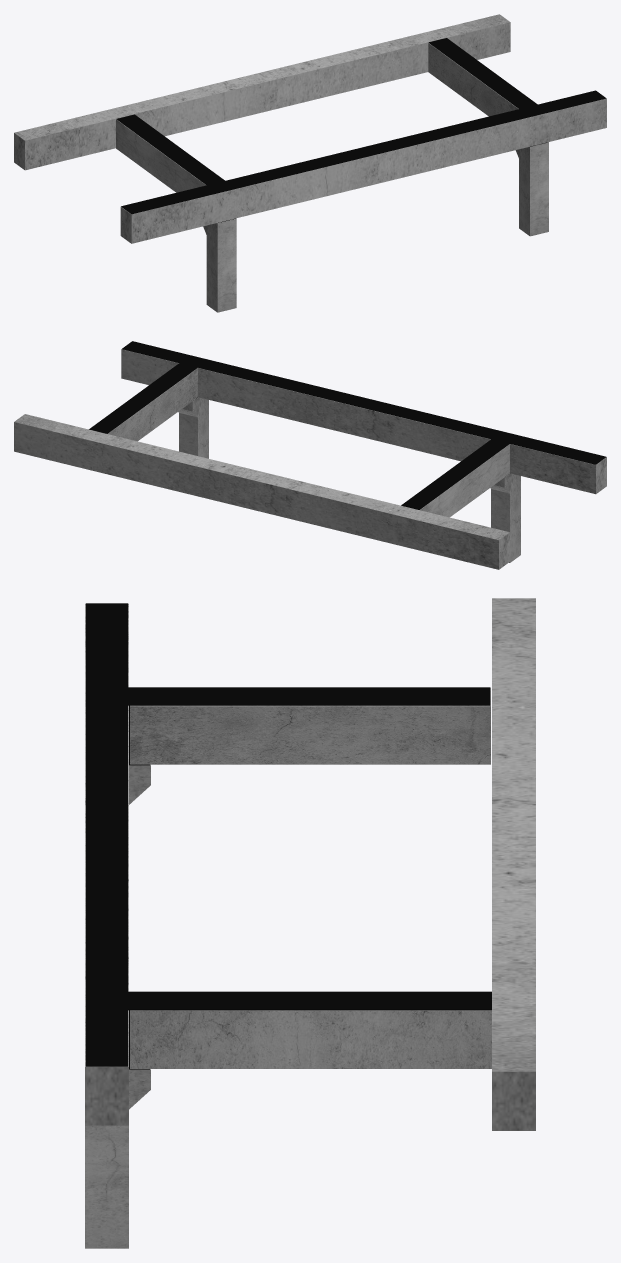
File: In Class 2025 - Structure.fbx
The picture shows the model from 3 angles, top to bottom: view 1: azimuth 30°, elevation 25°; view 2: azimuth 150°, elevation 25°; view 3: azimuth 270°, elevation 25°; orthographic projection. The views are drawn at different scales.
Parts seen in each view (by area): view 1: concrete, conc joints; view 2: concrete, conc joints; view 3: concrete, conc joints.
Boxes of the visible parts, bbox=[...] form: concrete: bbox=[14, 14, 606, 312]; conc joints: bbox=[116, 38, 606, 222]; concrete: bbox=[14, 349, 606, 569]; conc joints: bbox=[89, 341, 605, 509]; concrete: bbox=[85, 598, 535, 1248]; conc joints: bbox=[86, 603, 491, 1069].
Bounding box in the file's own units: 612 × 246 × 144.
Materials: 2 (1 with a texture image).
